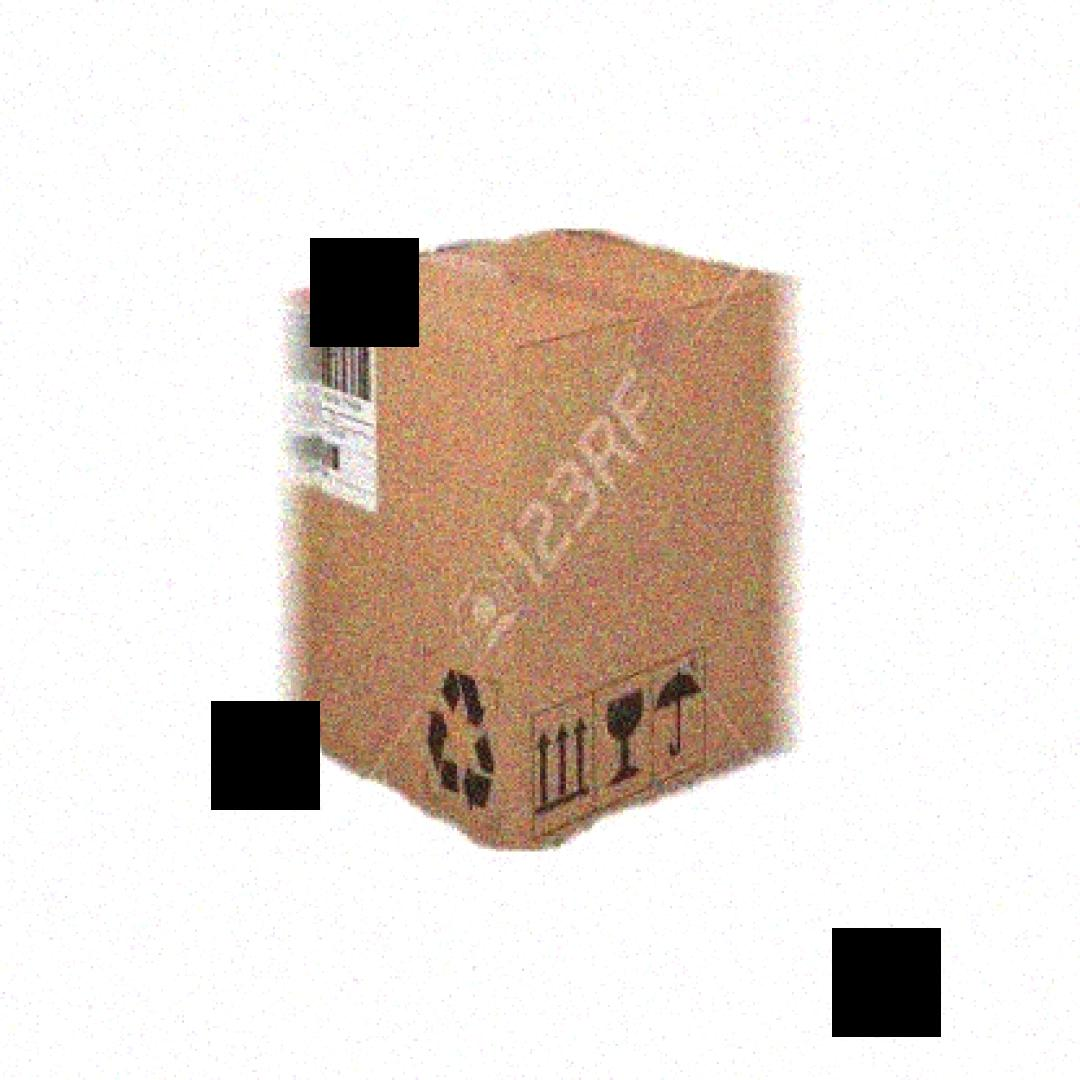package: (290, 230, 786, 846)
